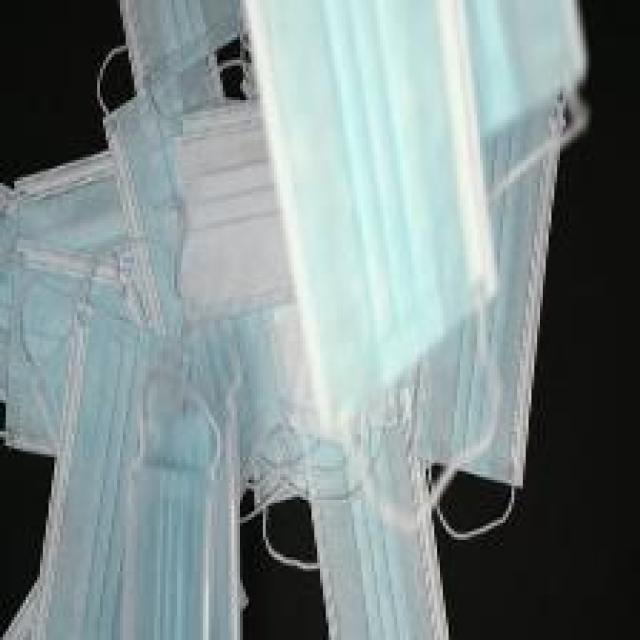Mask: (46, 24, 588, 639)
